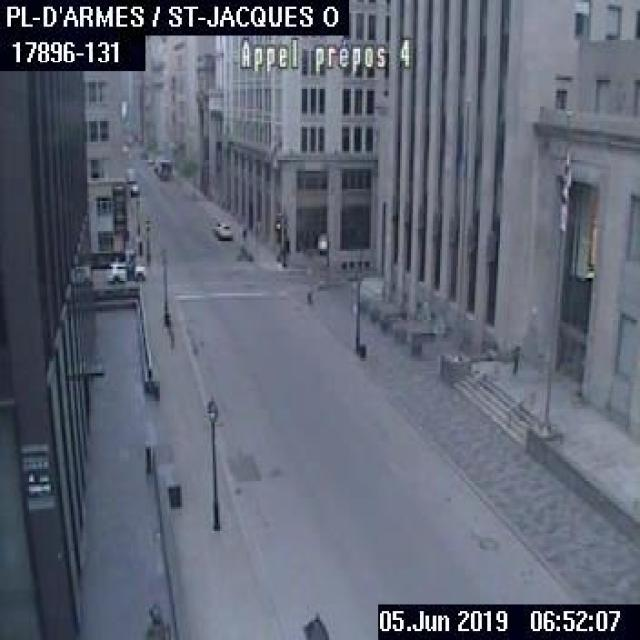pedestrian: (126, 258, 133, 280)
vehicle: (106, 262, 146, 282), (152, 158, 170, 178), (211, 220, 231, 238)
